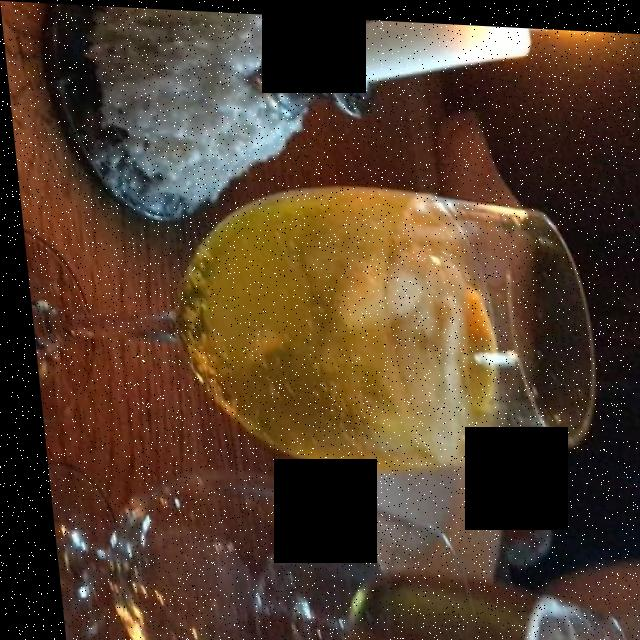cocktail: (187, 186, 487, 466)
